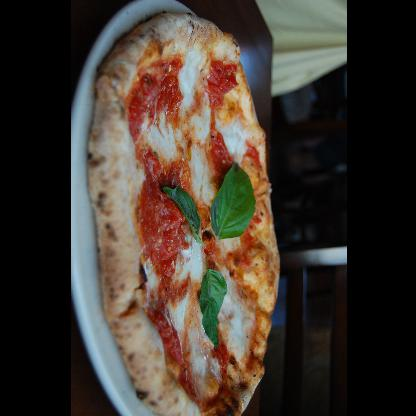pizza: (87, 12, 280, 415)
